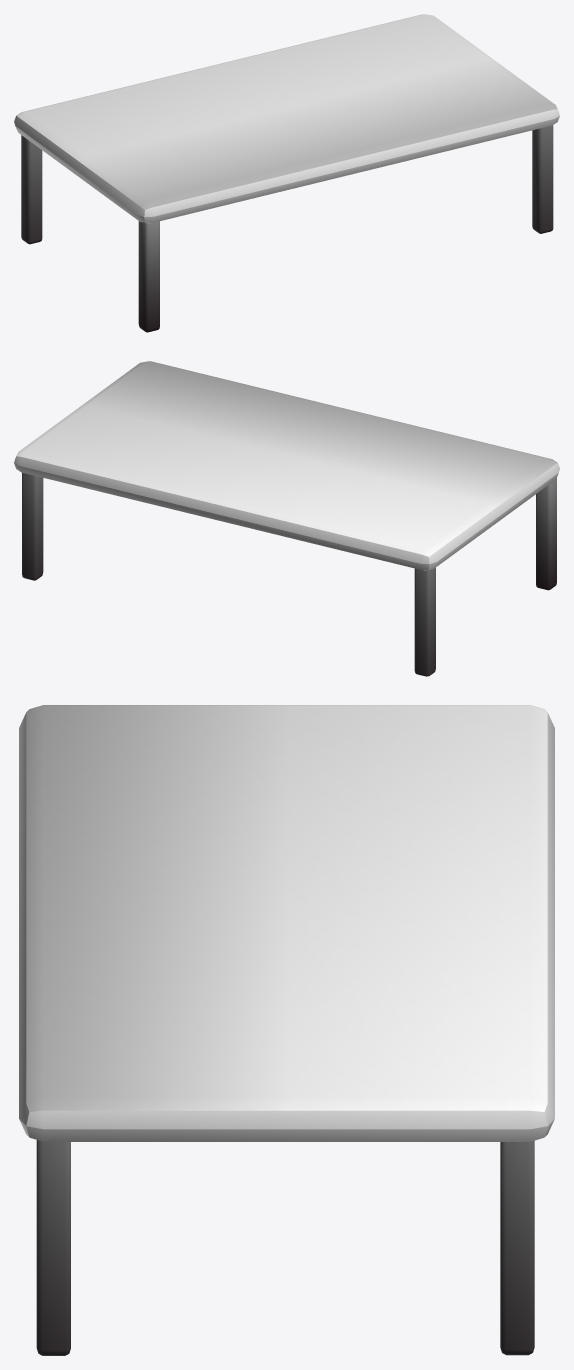
Rendered from Props_Table_02.fbx.
3 renders of one model, top to bottom at view 1: azimuth 30°, elevation 25°; view 2: azimuth 150°, elevation 25°; view 3: azimuth 270°, elevation 25°, orthographic. The views are drawn at different scales.
Visible parts, largest first — view 1: Props_Table_02; view 2: Props_Table_02; view 3: Props_Table_02.
Part boxes in pixels (<box>): Props_Table_02: <box>14,14,559,332</box>; Props_Table_02: <box>14,361,559,676</box>; Props_Table_02: <box>19,705,554,1355</box>.
Size of the model in its own units: 200 by 58.24 by 110.
